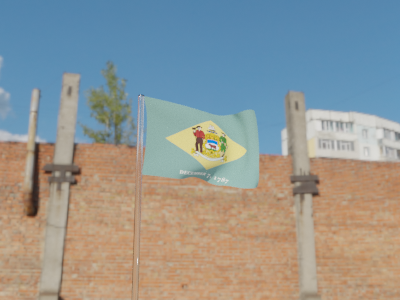Delaware flag: (142, 95, 262, 190)
